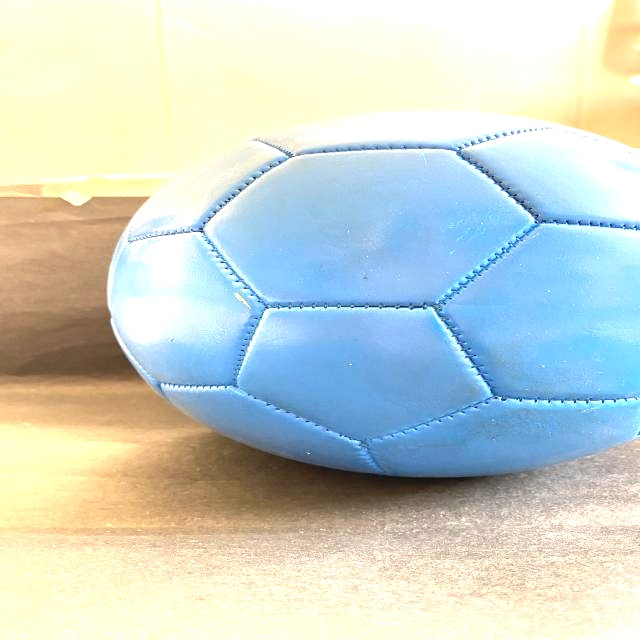blue_ball: (112, 115, 640, 481)
